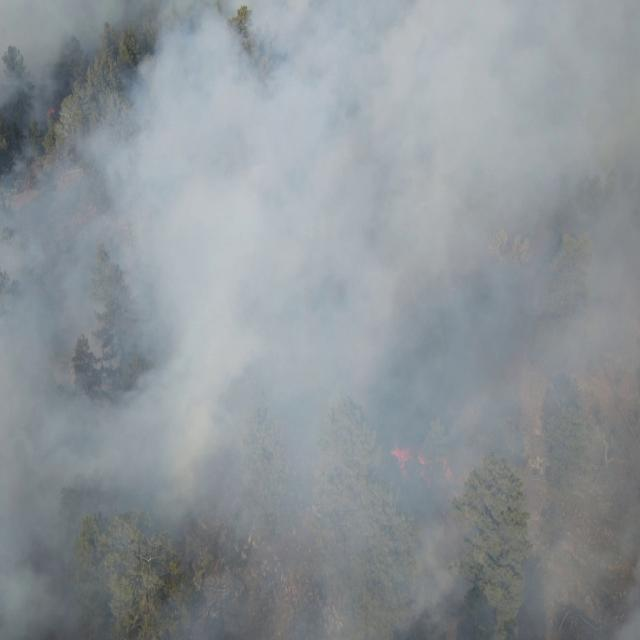fire: (390, 445, 463, 485), (42, 102, 58, 119)
smoke: (0, 0, 640, 640)
